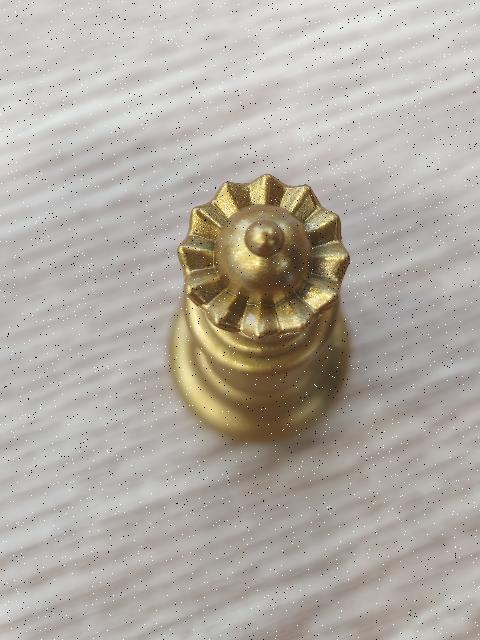black_queen: (166, 171, 352, 443)
